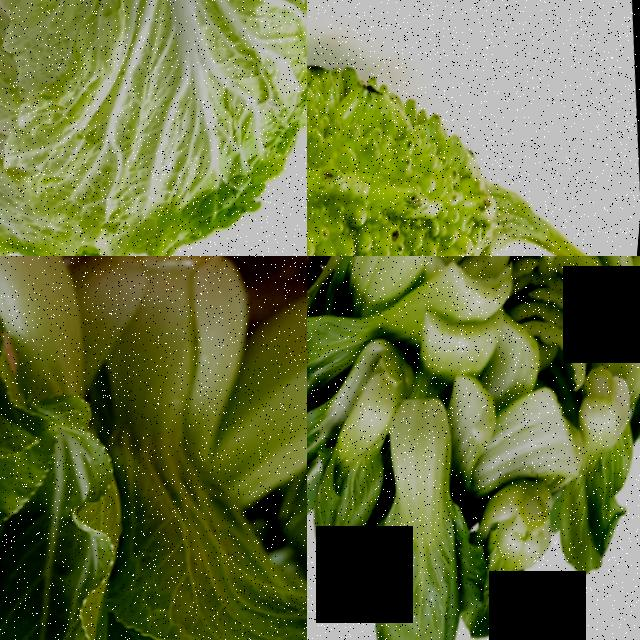bitter gourd: (307, 0, 561, 256)
bok choy: (65, 256, 264, 605), (0, 256, 94, 640), (358, 404, 483, 640), (307, 344, 393, 560), (558, 367, 640, 561), (467, 477, 561, 640)
cabbage: (0, 0, 307, 256)
